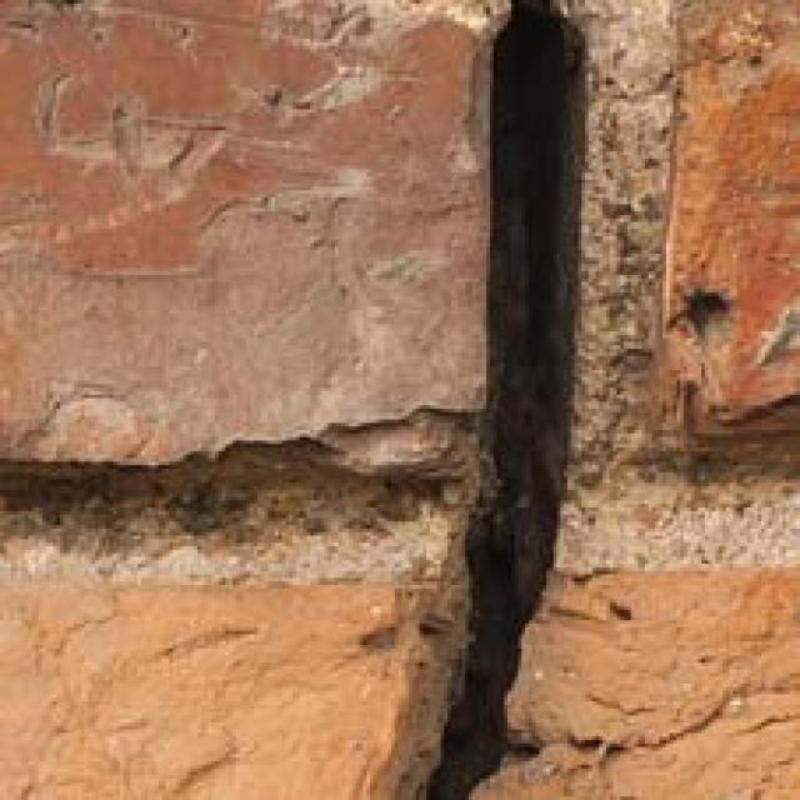crack: (427, 0, 584, 799)
